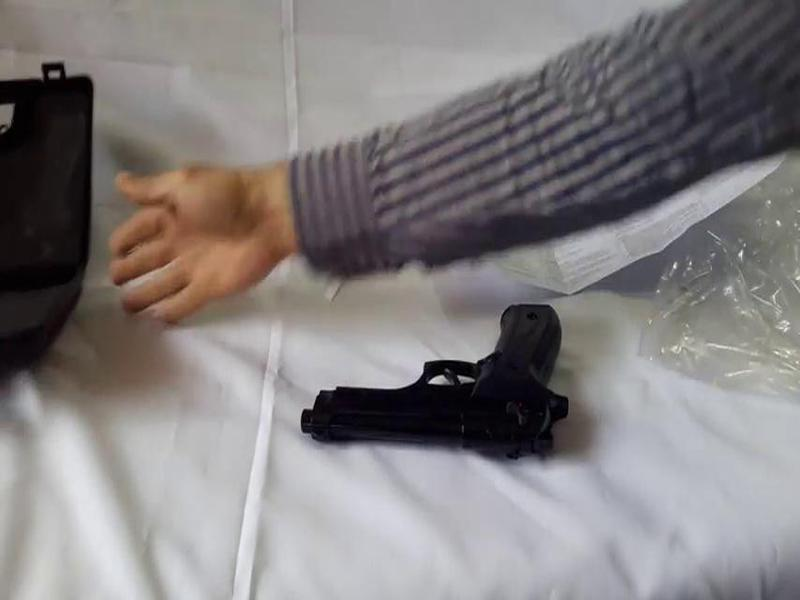Pistola: (277, 279, 606, 496)
